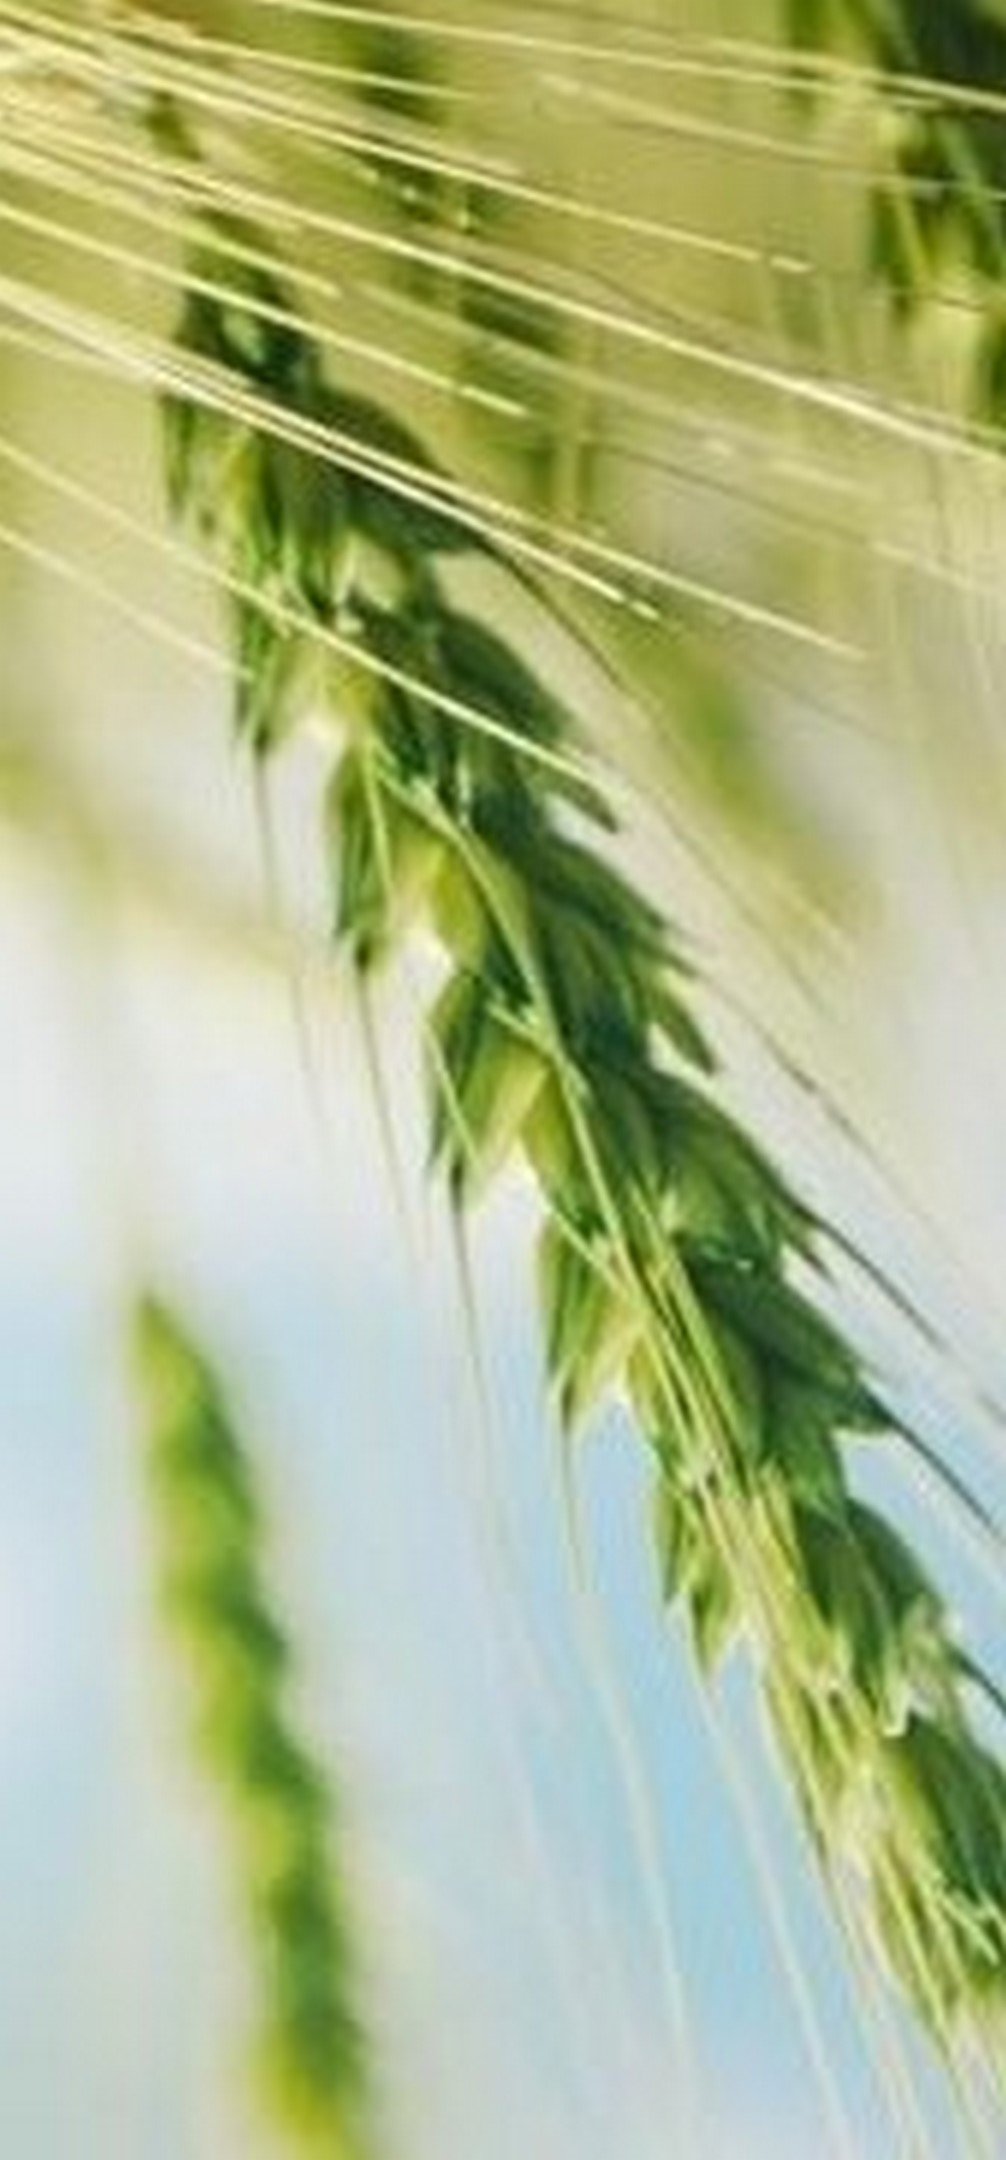Healthy Wheat: (136, 273, 1006, 1889)
